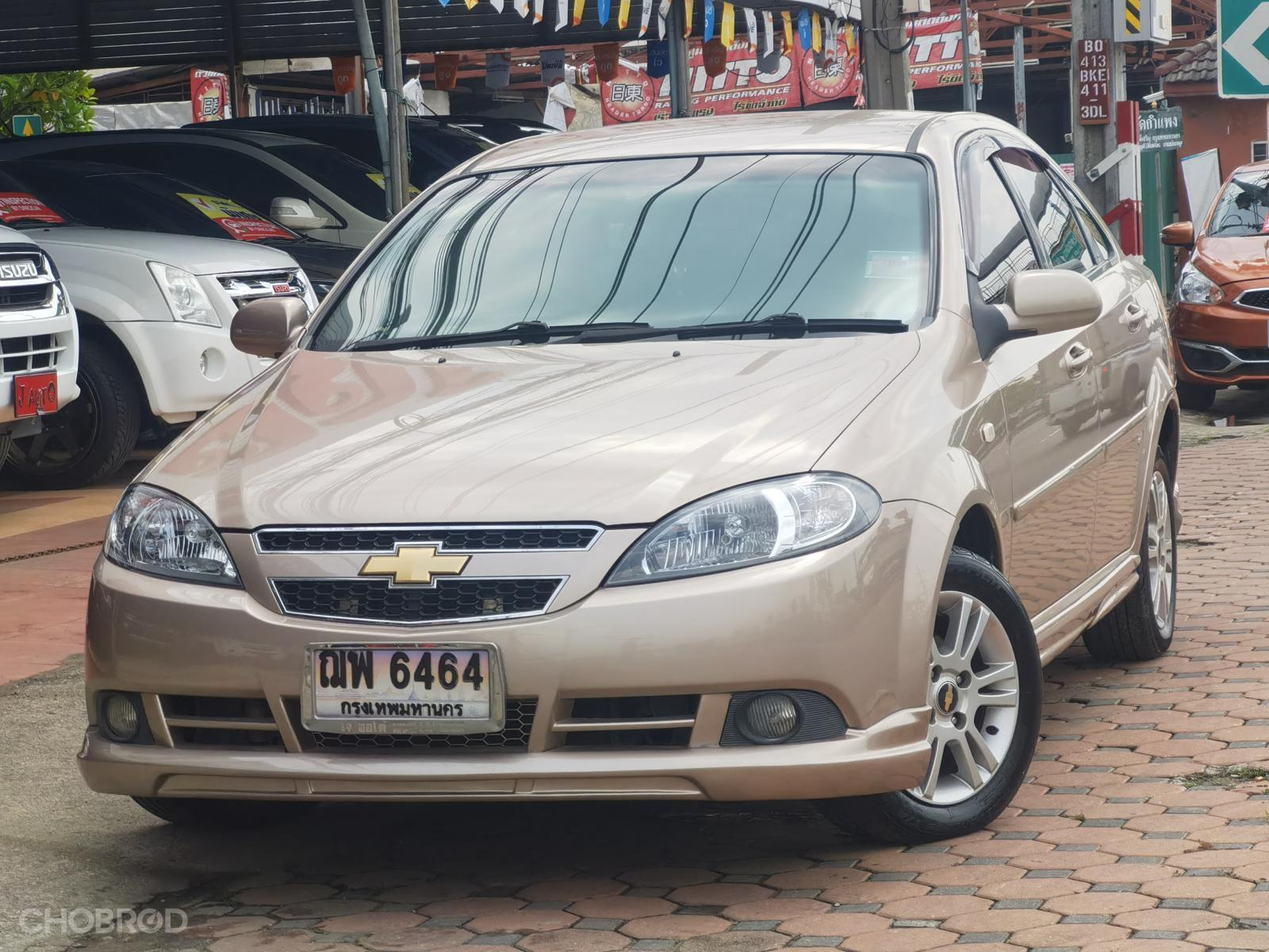license-plate: (302, 635, 509, 740)
